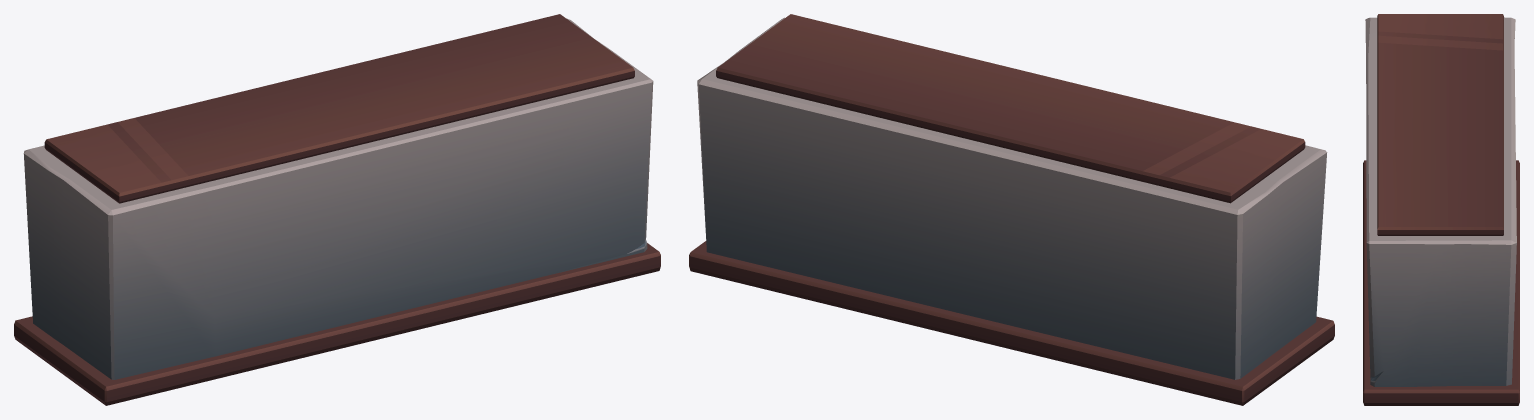
The model's file is DisplayCase_High_1x3_Classic_A.fbx.
3 renders of one model, left to right at view 1: azimuth 30°, elevation 25°; view 2: azimuth 150°, elevation 25°; view 3: azimuth 270°, elevation 25°, orthographic. The views are drawn at different scales.
Visible parts, largest first — view 1: DisplayCase_High_1x3_Classic_A; view 2: DisplayCase_High_1x3_Classic_A; view 3: DisplayCase_High_1x3_Classic_A.
Boxes of the visible parts, x1=… form: DisplayCase_High_1x3_Classic_A: x1=14, y1=14, x2=660, y2=405; DisplayCase_High_1x3_Classic_A: x1=689, y1=14, x2=1334, y2=405; DisplayCase_High_1x3_Classic_A: x1=1363, y1=14, x2=1519, y2=405.
Bounding box in the file's own units: 2.89 × 1 × 0.8295.
